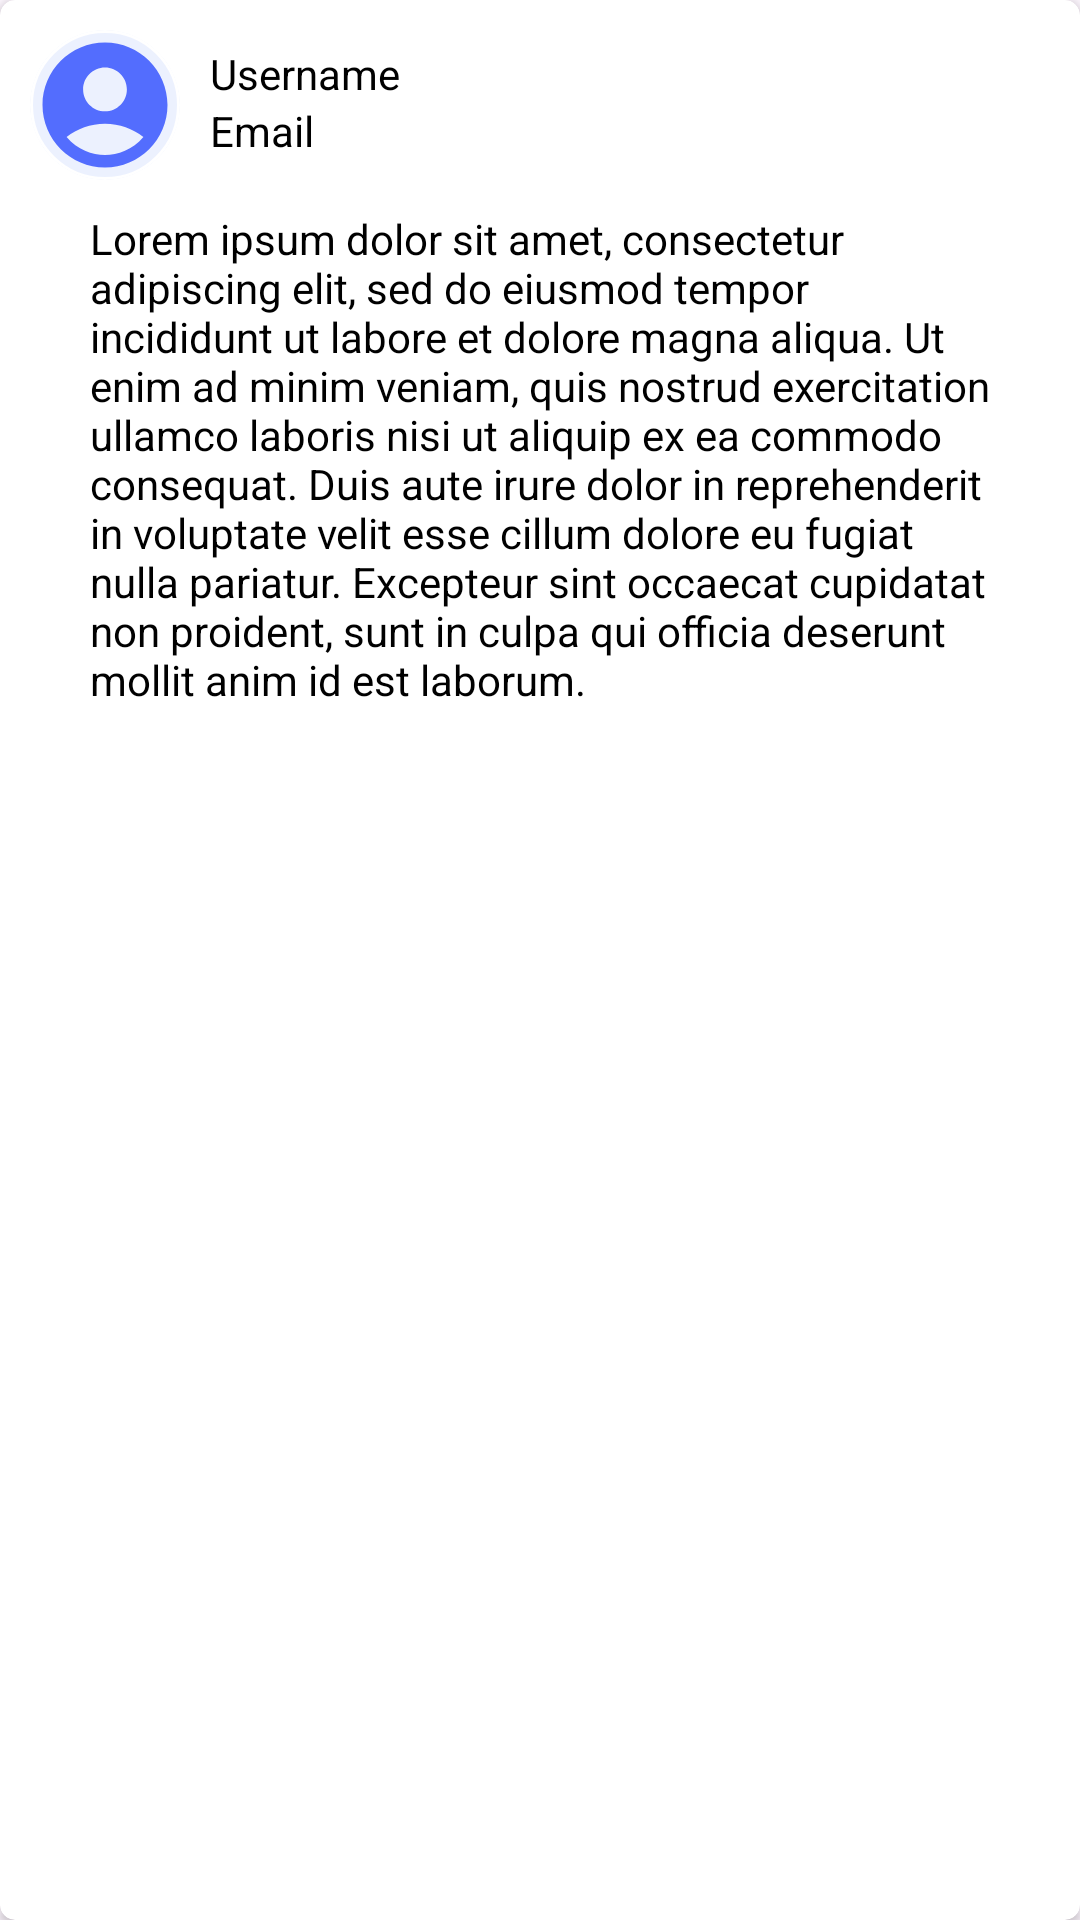

Icons on this 1080×1920 Android screen, each with its box as (x1, y1, x2, y2):
User Image: (42, 42, 168, 168)
